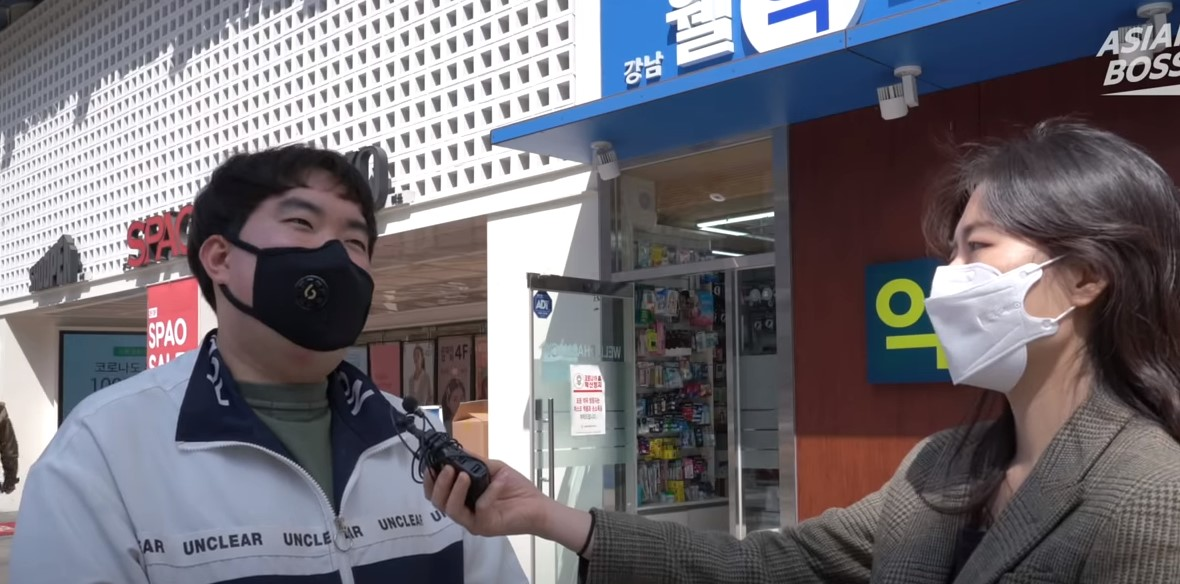face_with_mask: (915, 143, 1106, 396), (193, 151, 382, 356)
